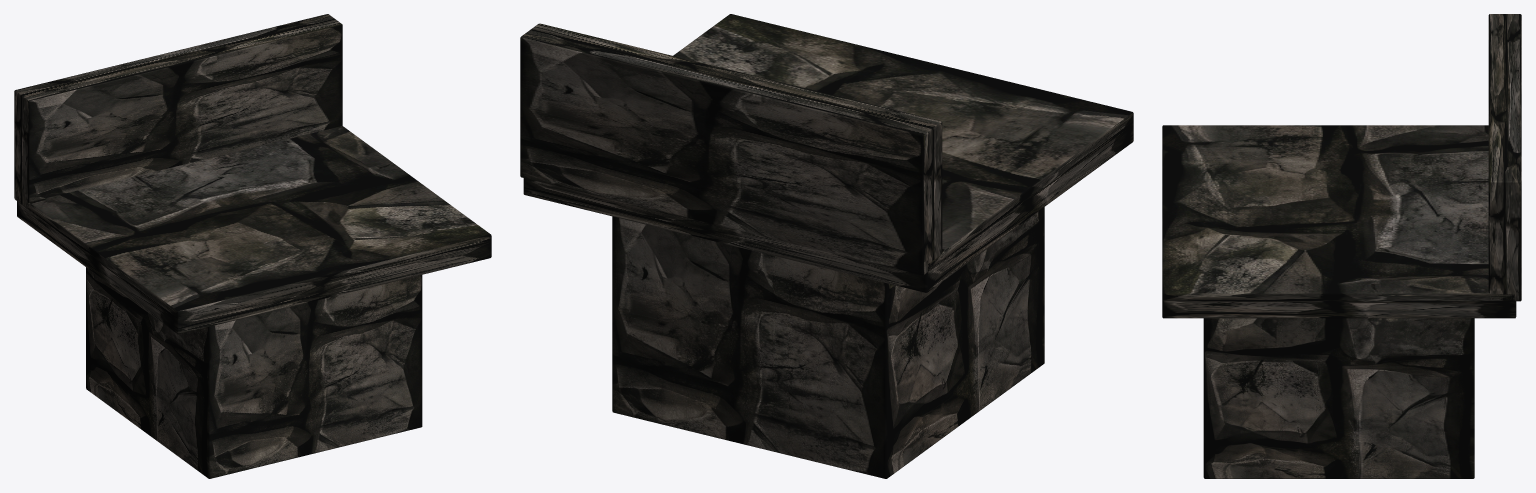
File: archer_platform_low_2m_LOD2.glb
3 views of the same model, side by side, from view 1: azimuth 30°, elevation 25°; view 2: azimuth 150°, elevation 25°; view 3: azimuth 270°, elevation 25° (orthographic). The views are drawn at different scales.
Visible parts, largest first — view 1: LOD_Deck.001, LOD_Base.001, LOD_Screen.001; view 2: LOD_Base.001, LOD_Screen.001, LOD_Deck.001; view 3: LOD_Deck.001, LOD_Base.001, LOD_Screen.001.
Part boxes in pixels (x1,y1,x2,y2): LOD_Deck.001: [17, 126, 491, 334]; LOD_Base.001: [86, 267, 422, 478]; LOD_Screen.001: [14, 14, 342, 208]; LOD_Base.001: [612, 207, 1044, 478]; LOD_Screen.001: [520, 23, 942, 275]; LOD_Deck.001: [523, 14, 1133, 292]; LOD_Deck.001: [1162, 125, 1516, 318]; LOD_Base.001: [1203, 318, 1474, 478]; LOD_Screen.001: [1488, 14, 1521, 301].
Bounding box in the file's own units: 3.6 × 3.24 × 3.25.
Materials: 1 (1 with a texture image).
